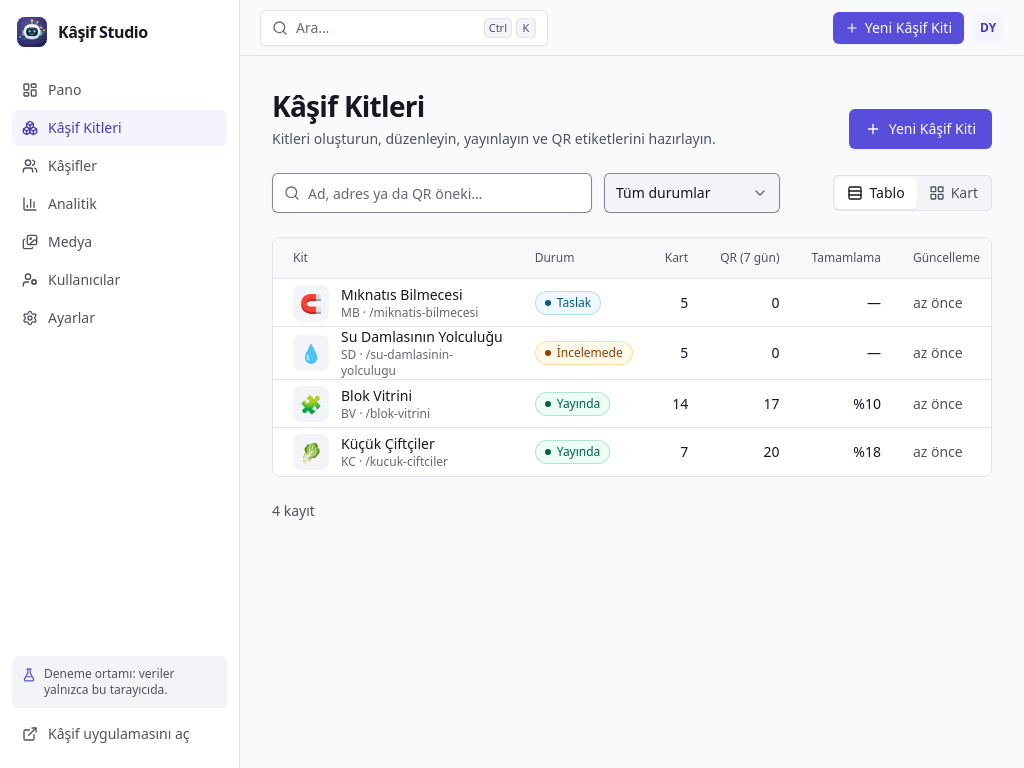
Test: Studio pages (admin, demo data) › kit list: filters by status through the URL
Expected: the link "🥬 Küçük Çiftçiler KC · /kucuk-ciftciler" is shown, [293,434,448,470]
Select "Taslak" in the dropdown named "Durum". click: (692, 193)
box: [604,173,780,213]
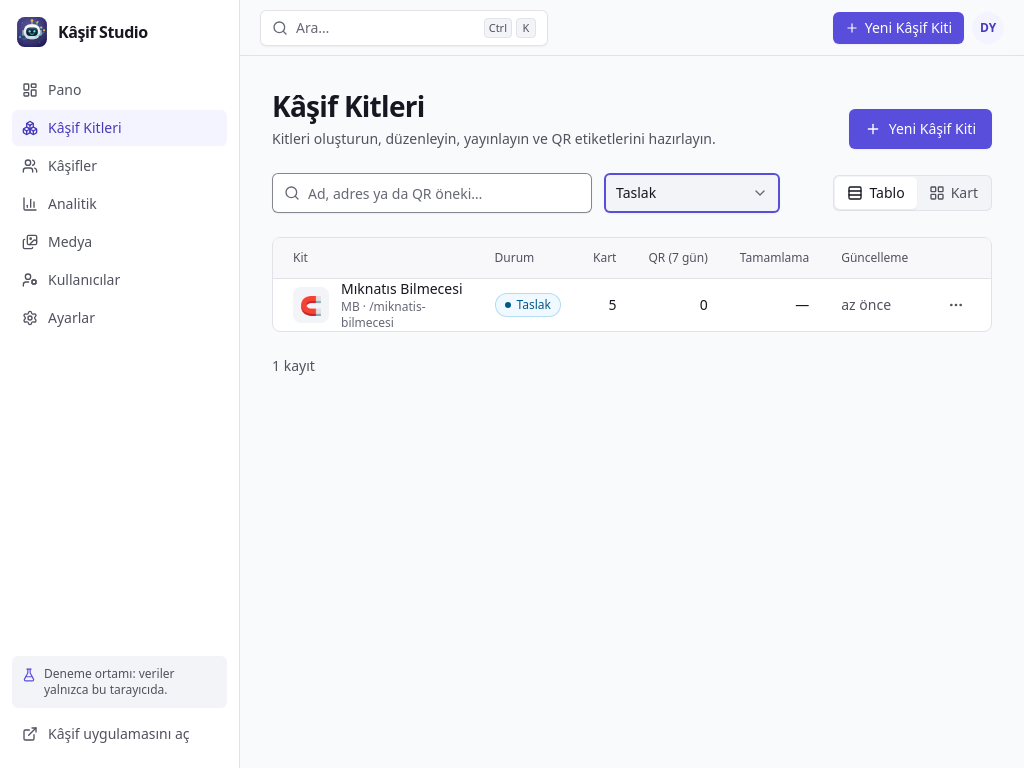
Expected: the link "🧲 Mıknatıs Bilmecesi MB · /miknatis-bilmecesi" is shown, [293,279,463,331]
Expected: the link "Küçük Çiftçiler" is gone
